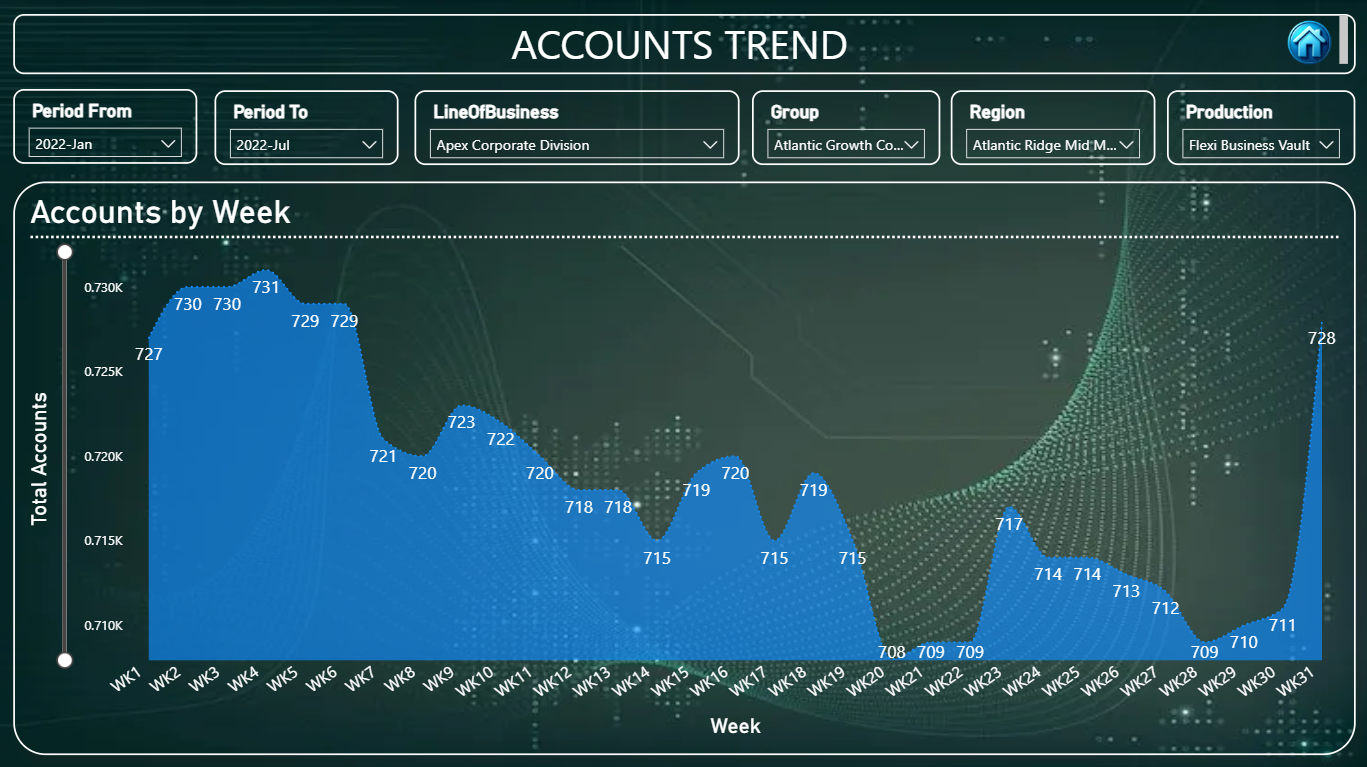

Layout of this report page (visuals, bound fields, positions):
{"tool":"powerbi","page":{"name":"Accounts Trend","canvas":[1280,720],"ordinal":2},"visuals":[{"type":"areaChart","title":"Accounts by Week","fields":{"Category":["Week Axis.Week Label"],"Y":["AccountDepositsData.Accounts by Week"]},"box":[15.1,169.8,1248.7,533.8],"z":4000},{"type":"textbox","box":[15.1,13.7,1248.7,56.3],"z":5000},{"type":"slicer","title":"period from","fields":{"Values":["Period From.YearMonth"]},"box":[15.1,83.7,171.5,70],"z":6000},{"type":"slicer","fields":{"Values":["Period To.YearMonth"]},"box":[202.3,84.9,171.5,70],"z":7000},{"type":"slicer","fields":{"Values":["AccountDepositsData.LineOfBusiness"]},"box":[388.4,84.9,302.3,69.8],"z":7001},{"type":"slicer","fields":{"Values":["AccountDepositsData.Group"]},"box":[702.3,84.9,175.6,69.8],"z":7002},{"type":"slicer","fields":{"Values":["AccountDepositsData.Region"]},"box":[887.2,84.9,190.7,69.8],"z":7003},{"type":"slicer","fields":{"Values":["AccountDepositsData.Prod"]},"box":[1088.4,84.9,175.6,69.8],"z":7004},{"type":"image","box":[1195.4,10.5,51.2,62.8],"z":7005}]}

Visuals, with their boxes in screenshot pixels (x1, y1, x2, y2), scaled from the page's 1280x720 canvas onto the 1367x767 screenshot:
"Accounts by Week" areaChart: (x1=16, y1=181, x2=1350, y2=750)
textbox: (x1=16, y1=15, x2=1350, y2=75)
"period from" slicer: (x1=16, y1=89, x2=199, y2=164)
slicer - Period To.YearMonth: (x1=216, y1=90, x2=399, y2=165)
slicer - AccountDepositsData.LineOfBusiness: (x1=415, y1=90, x2=738, y2=165)
slicer - AccountDepositsData.Group: (x1=750, y1=90, x2=938, y2=165)
slicer - AccountDepositsData.Region: (x1=948, y1=90, x2=1151, y2=165)
slicer - AccountDepositsData.Prod: (x1=1162, y1=90, x2=1350, y2=165)
image: (x1=1277, y1=11, x2=1331, y2=78)
